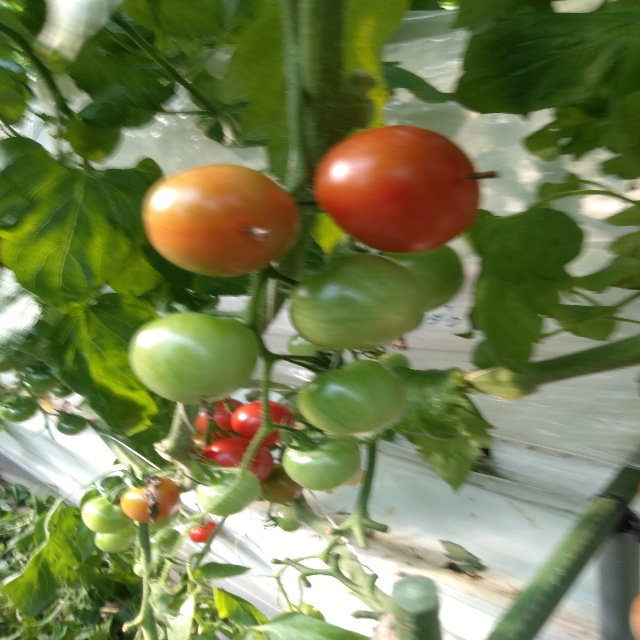l_fully_ripened: (314, 124, 480, 255), (198, 435, 273, 484), (230, 400, 293, 446), (195, 397, 246, 440), (188, 521, 216, 543)
l_green: (289, 252, 426, 350), (128, 311, 258, 404), (297, 359, 405, 437), (375, 244, 463, 313), (282, 430, 361, 493), (196, 468, 261, 516), (286, 331, 345, 368), (81, 496, 133, 535), (259, 463, 303, 503), (26, 358, 66, 392), (93, 523, 135, 553), (0, 395, 37, 423), (56, 414, 87, 436), (369, 352, 410, 368), (276, 506, 302, 531)
l_half_ripened: (142, 163, 302, 278), (122, 477, 179, 524)
